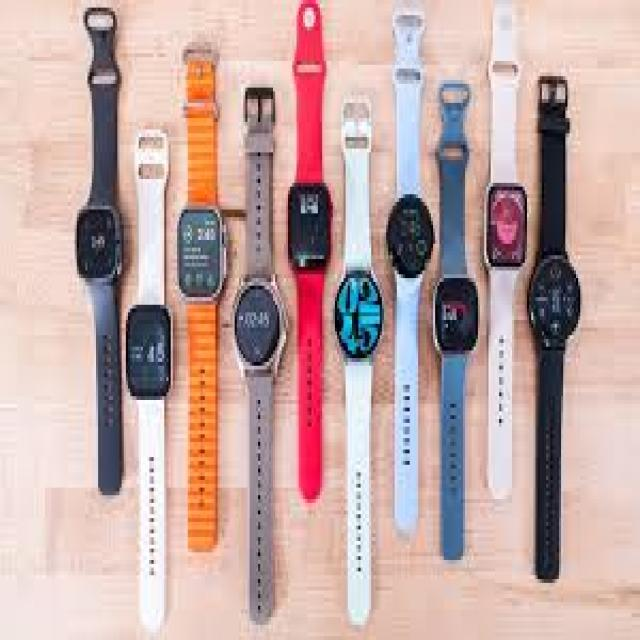objects: (233, 88, 289, 621), (526, 76, 583, 579), (332, 103, 385, 621), (175, 46, 229, 549), (285, 0, 335, 499), (386, 11, 433, 530), (126, 130, 173, 629), (75, 11, 123, 491), (431, 84, 479, 560), (482, 0, 525, 495)
